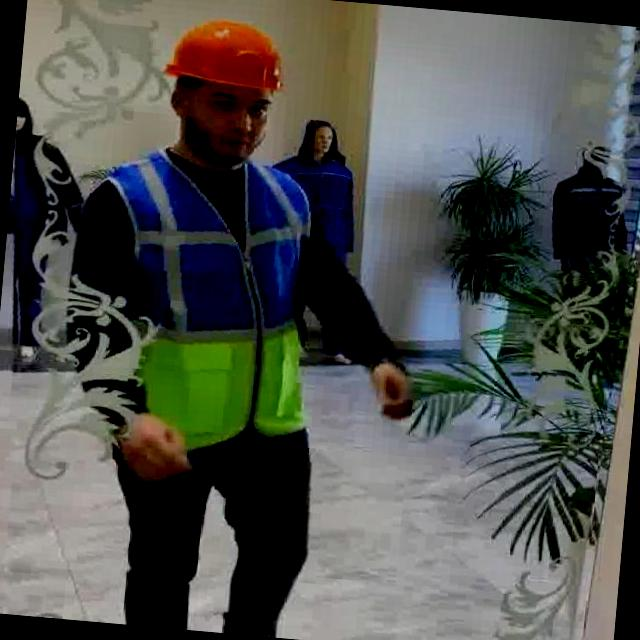vest: (68, 138, 334, 468)
